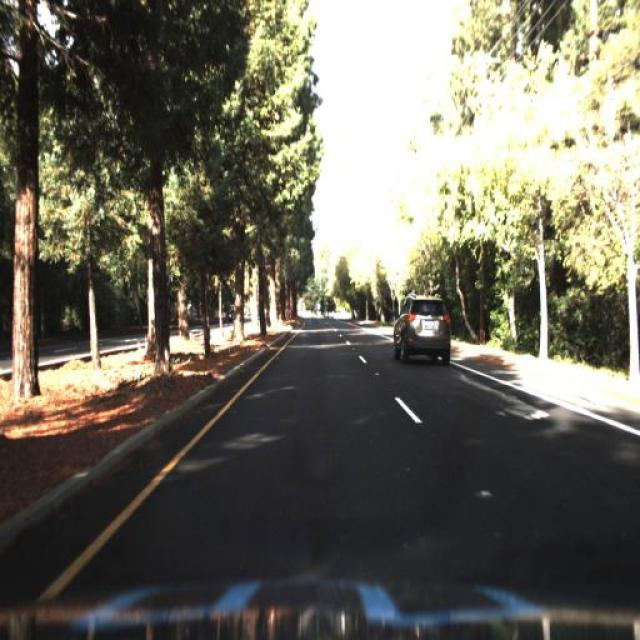car: (393, 293, 451, 367)
